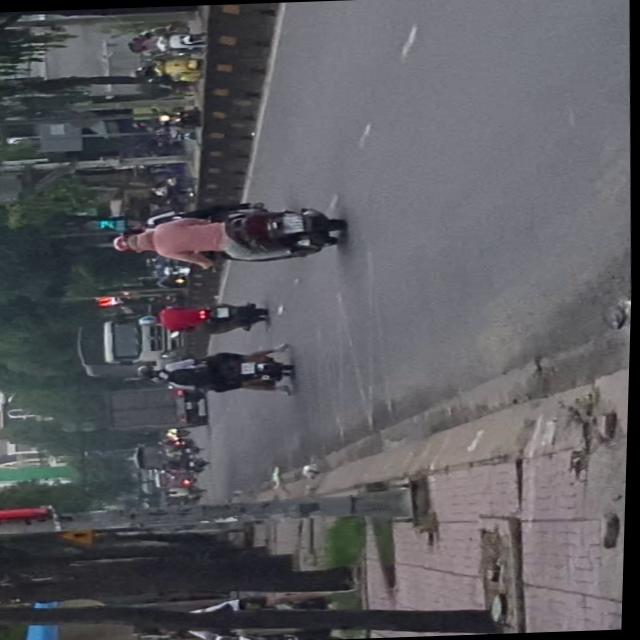helmet: (111, 229, 152, 252)
licenseplate: (109, 200, 347, 268)
nohelmet: (284, 214, 306, 232)
